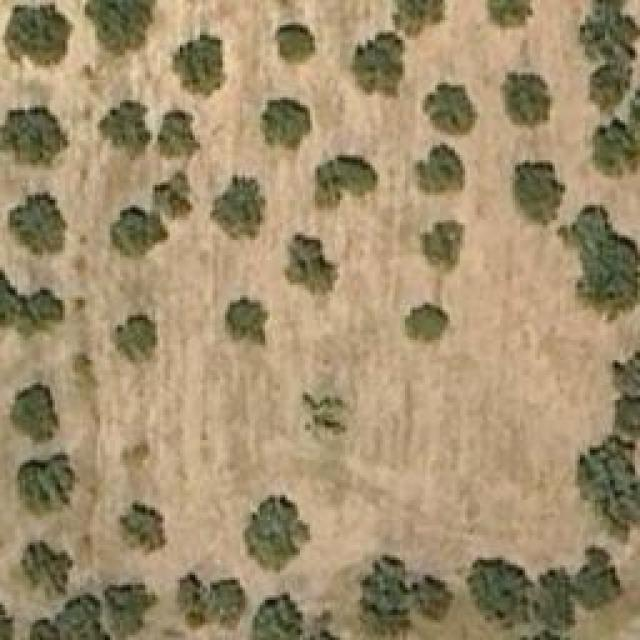Tree: (555, 205, 640, 323), (577, 390, 640, 530), (242, 495, 310, 573), (468, 550, 531, 630), (358, 555, 415, 639), (15, 448, 80, 518), (85, 0, 158, 58), (283, 233, 338, 308), (210, 178, 268, 248), (178, 572, 248, 630), (0, 265, 62, 330), (510, 155, 565, 228), (0, 107, 68, 165), (422, 75, 480, 143), (8, 5, 71, 65), (353, 30, 406, 98), (580, 0, 638, 60), (527, 565, 575, 635), (173, 33, 226, 96), (315, 155, 378, 208), (10, 195, 65, 255), (98, 100, 153, 160), (110, 208, 170, 261), (10, 385, 60, 448), (572, 548, 620, 611), (260, 98, 313, 153), (413, 143, 466, 198), (105, 585, 158, 638), (500, 73, 550, 128), (23, 543, 73, 596), (118, 500, 168, 553), (403, 300, 458, 348), (300, 385, 348, 440), (420, 220, 465, 275), (110, 315, 158, 365), (593, 118, 638, 171), (252, 592, 300, 640), (268, 23, 318, 66), (225, 297, 268, 345), (393, 0, 443, 40), (415, 573, 454, 623), (158, 113, 201, 158), (57, 597, 102, 640), (153, 172, 193, 220), (590, 63, 630, 108), (488, 0, 538, 28), (612, 352, 640, 390)
